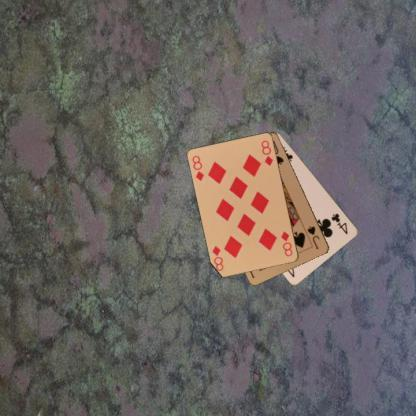4c: (329, 211, 349, 236)
8d: (278, 228, 295, 258), (190, 153, 206, 182)
Js: (305, 223, 321, 250)
